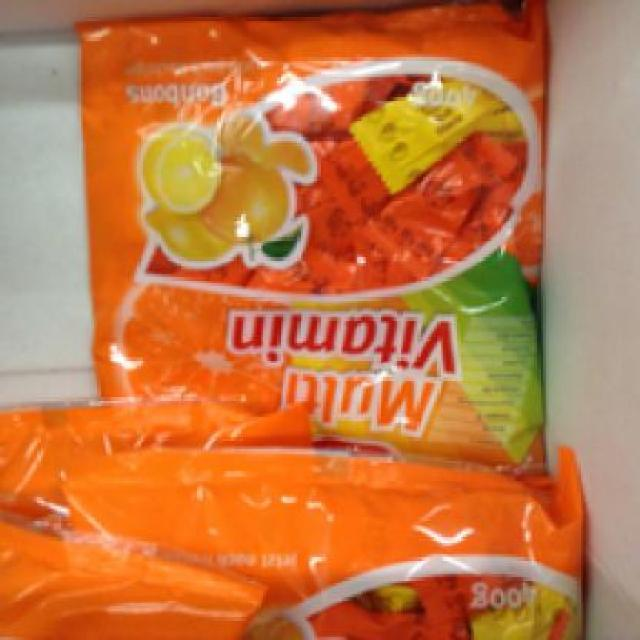Candy: (80, 12, 546, 474), (34, 448, 580, 638)
